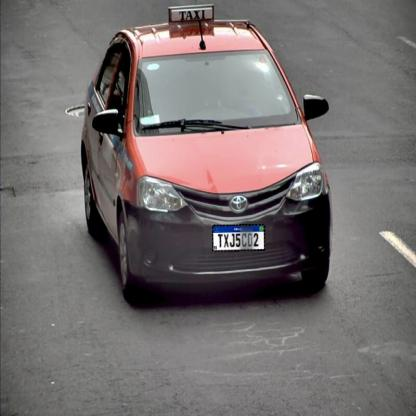PlacaM: (212, 224, 265, 252)
